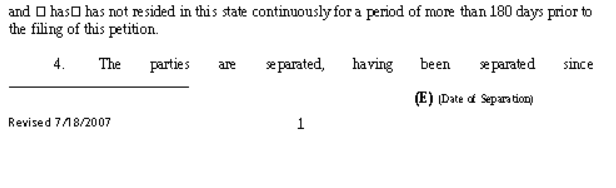textline: (6, 75, 197, 90)
